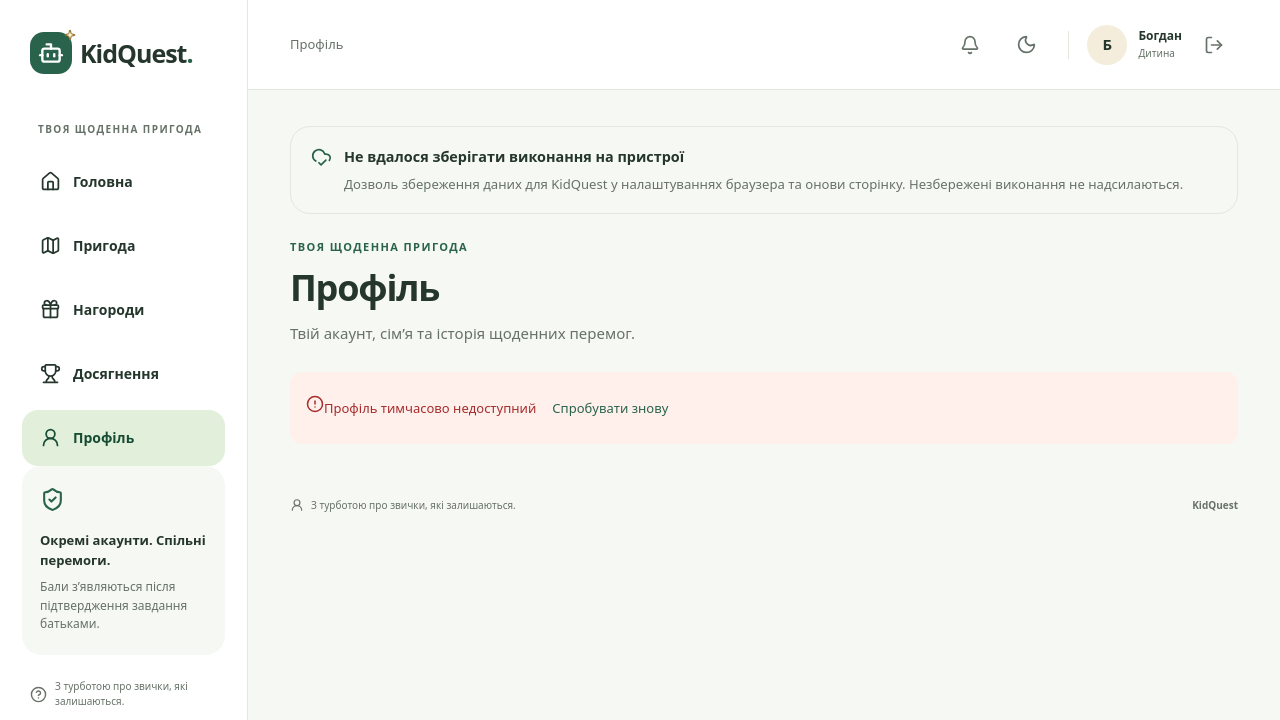
Test case: Profile and family account settings › retries profile loading before displaying account information
Expected: the message "Профіль тимчасово недоступний Спробувати знову" is shown, [290,372,1238,444]
Click the button "Спробувати знову" at coordinates (610, 408), box [536,384,684,432]
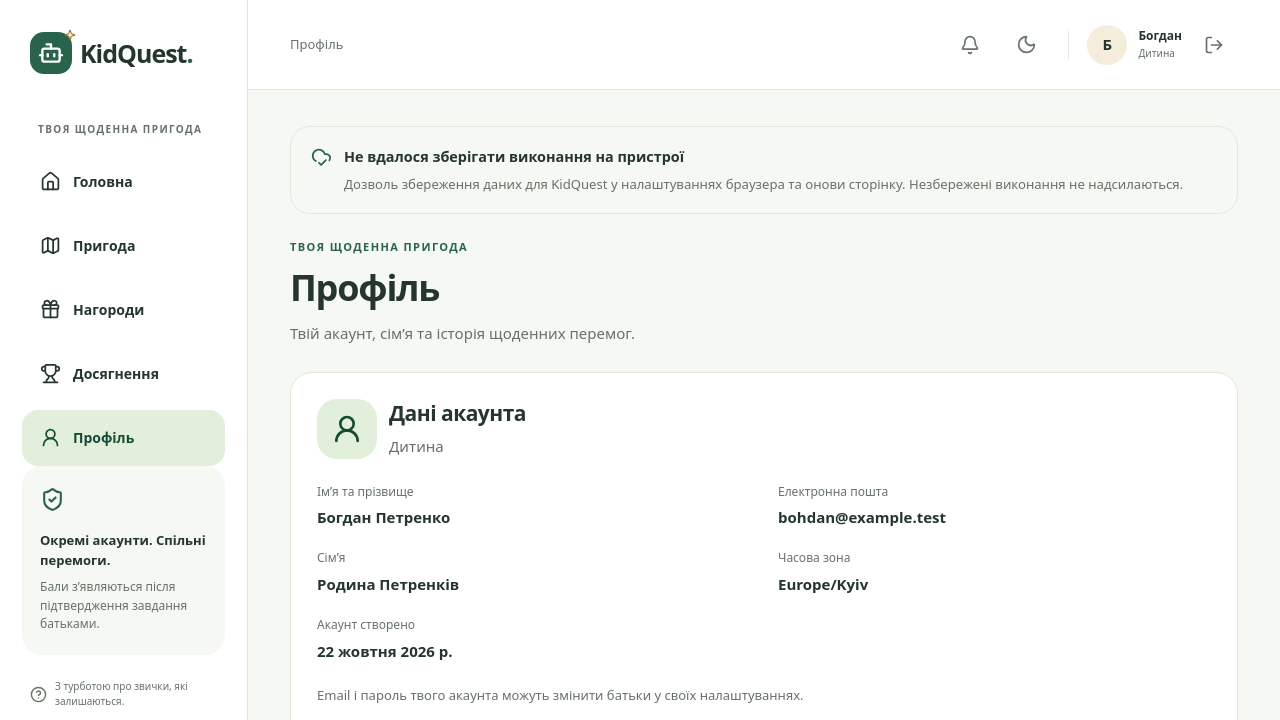
Now the heading "Дані акаунта" is shown, box [389,399,526,428]
